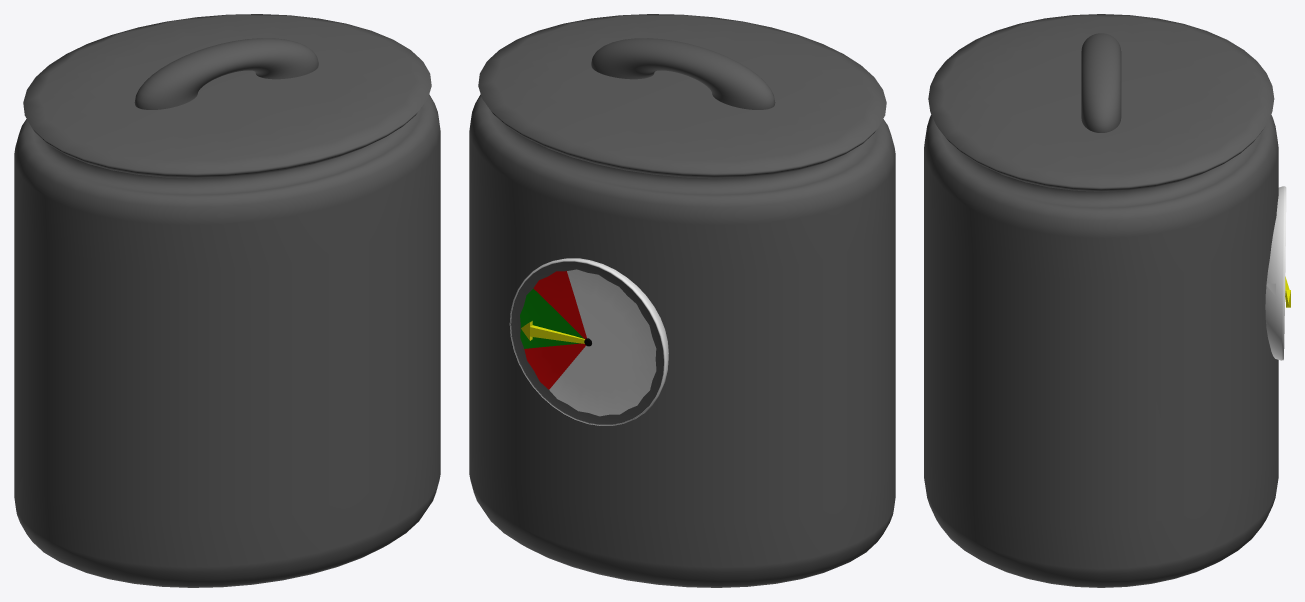
File: foundryv2.fbx
3 renders of one model, left to right at view 1: azimuth 30°, elevation 25°; view 2: azimuth 150°, elevation 25°; view 3: azimuth 270°, elevation 25°, orthographic. The views are drawn at different scales.
Parts seen in each view (by area): view 1: pot, handle; view 2: pot, gauge, handle, Dial; view 3: pot, handle, gauge.
Boxes of the visible parts, x1,y1,x2,y2 form: pot: (14,14,440,587); handle: (134,38,318,109); pot: (469,14,895,587); gauge: (509,258,668,425); handle: (591,38,775,109); Dial: (521,321,584,343); pot: (924,14,1278,587); handle: (1081,33,1121,132); gauge: (1265,186,1286,360).
Size of the model in its own units: 124 by 145 by 106.
